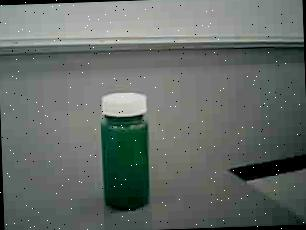Bottle C: (86, 80, 173, 222)
